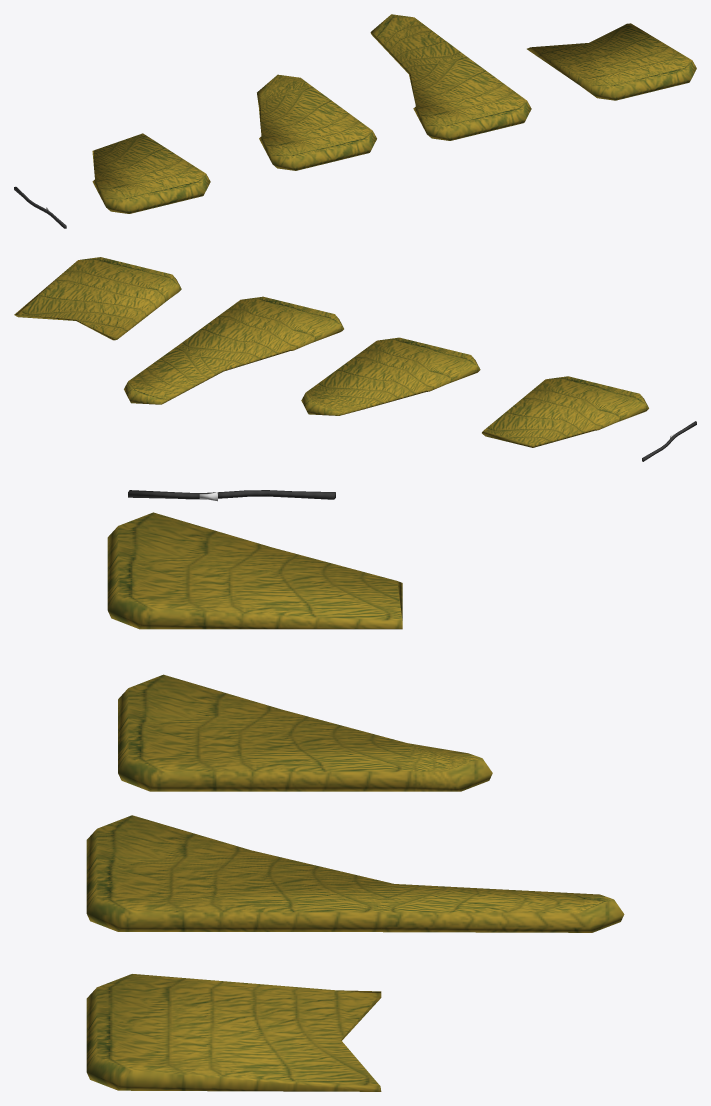
Rendered from DamagedSleepingBags_Yellow.obj.
The picture shows the model from 3 angles, top to bottom: view 1: azimuth 30°, elevation 25°; view 2: azimuth 150°, elevation 25°; view 3: azimuth 270°, elevation 25°; orthographic projection. The views are drawn at different scales.
Visible parts, largest first — view 1: Cube.044_Material.020, Cube.043_Material.020, Cube.045_Material.020, Cube.042_Material.020; view 2: Cube.044_Material.020, Cube.043_Material.020, Cube.045_Material.020, Cube.042_Material.020; view 3: Cube.044_Material.020, Cube.045_Material.020, Cube.043_Material.020, Cube.042_Material.020, Plane.007_Material.020.
Boxes of the visible parts, left/top/right/bottom form: Cube.044_Material.020: left=370, top=14, right=531, bottom=140; Cube.043_Material.020: left=257, top=74, right=376, bottom=170; Cube.045_Material.020: left=527, top=23, right=696, bottom=100; Cube.042_Material.020: left=92, top=133, right=210, bottom=213; Cube.044_Material.020: left=124, top=296, right=343, bottom=404; Cube.043_Material.020: left=301, top=337, right=480, bottom=415; Cube.045_Material.020: left=14, top=257, right=181, bottom=340; Cube.042_Material.020: left=482, top=376, right=648, bottom=447; Cube.044_Material.020: left=86, top=815, right=624, bottom=932; Cube.045_Material.020: left=86, top=974, right=381, bottom=1091; Cube.043_Material.020: left=118, top=674, right=492, bottom=791; Cube.042_Material.020: left=107, top=512, right=402, bottom=629; Plane.007_Material.020: left=128, top=490, right=335, bottom=499.
Size of the model in its own units: 4.71 by 0.1058 by 1.77.
